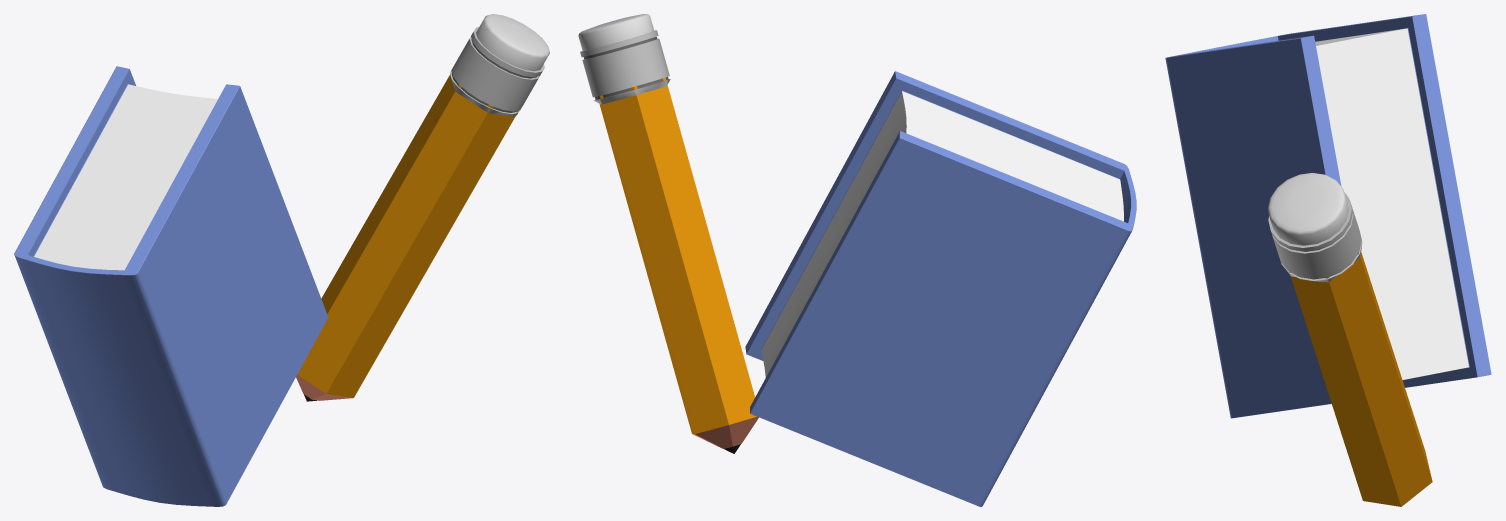
File: thickpencilbook.gltf
3 renders of one model, left to right at view 1: azimuth 30°, elevation 25°; view 2: azimuth 150°, elevation 25°; view 3: azimuth 270°, elevation 25°, orthographic. The views are drawn at different scales.
Visible parts, largest first — view 1: Book_1, Cylinder, Cylinder.001; view 2: Book_1, Cylinder, Cylinder.001; view 3: Book_1, Cylinder, Cylinder.001.
Boxes of the visible parts, bbox=[...] form: Book_1: bbox=[14, 66, 328, 506]; Cylinder: bbox=[296, 74, 518, 401]; Cylinder.001: bbox=[450, 14, 549, 116]; Book_1: bbox=[745, 71, 1136, 506]; Cylinder: bbox=[599, 77, 758, 453]; Cylinder.001: bbox=[578, 14, 670, 104]; Book_1: bbox=[1165, 14, 1491, 418]; Cylinder: bbox=[1289, 252, 1432, 506]; Cylinder.001: bbox=[1267, 173, 1362, 282].
Size of the model in its own units: 4.21 by 2.93 by 2.09.
